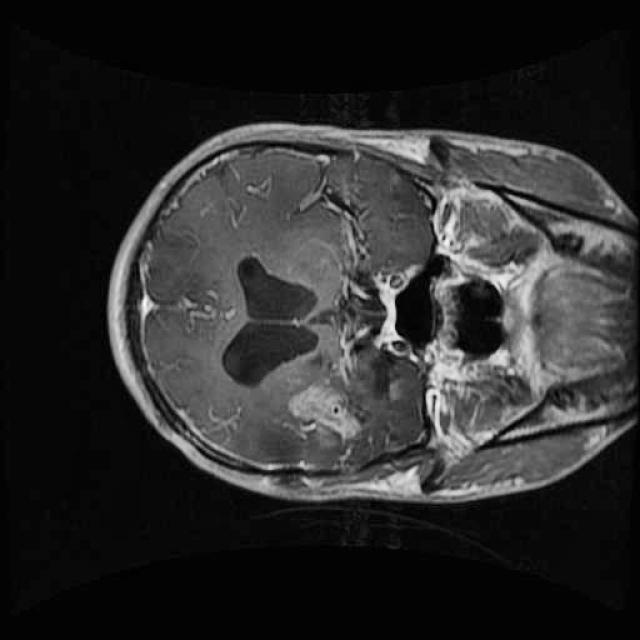Non-Tumor: (272, 368, 369, 500)
